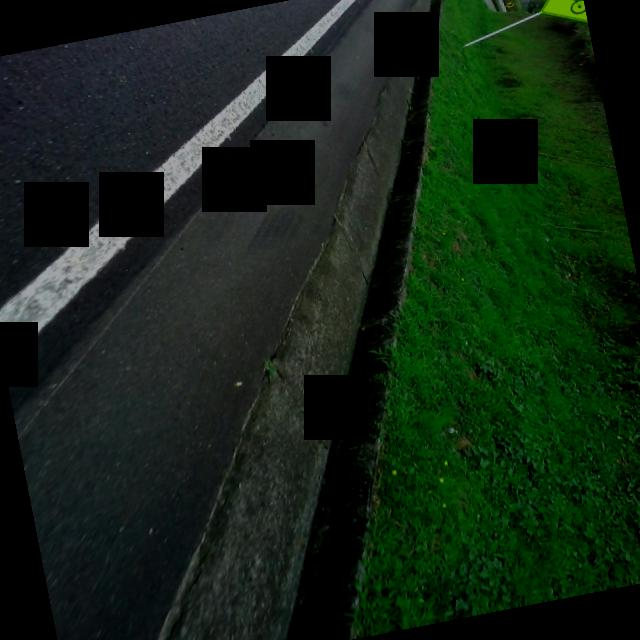DITCH: (0, 0, 576, 640), (0, 0, 567, 640)
